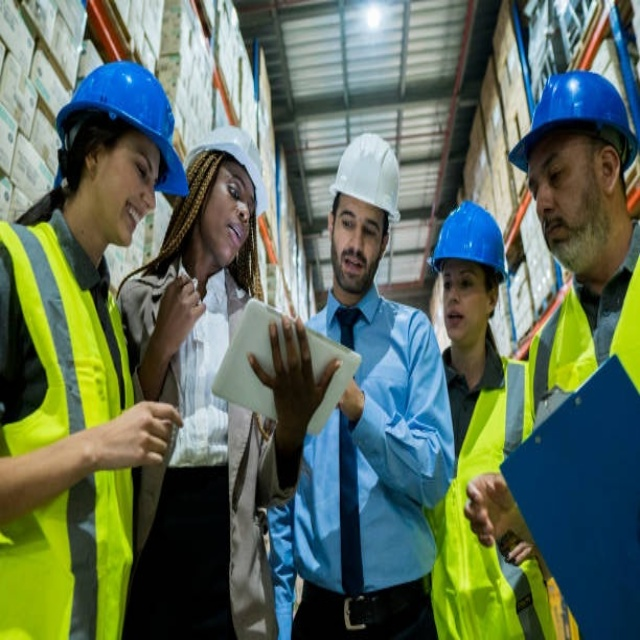Sin_gafas: (529, 143, 578, 205), (118, 141, 164, 188), (338, 201, 384, 245), (218, 168, 256, 218), (441, 270, 480, 295)
Sin_guantes: (241, 312, 343, 438), (111, 395, 189, 477), (460, 463, 511, 549), (160, 271, 203, 355)
Sin_mascara: (113, 195, 153, 243), (541, 212, 578, 253), (219, 216, 249, 264), (442, 306, 475, 339), (338, 248, 368, 284)
